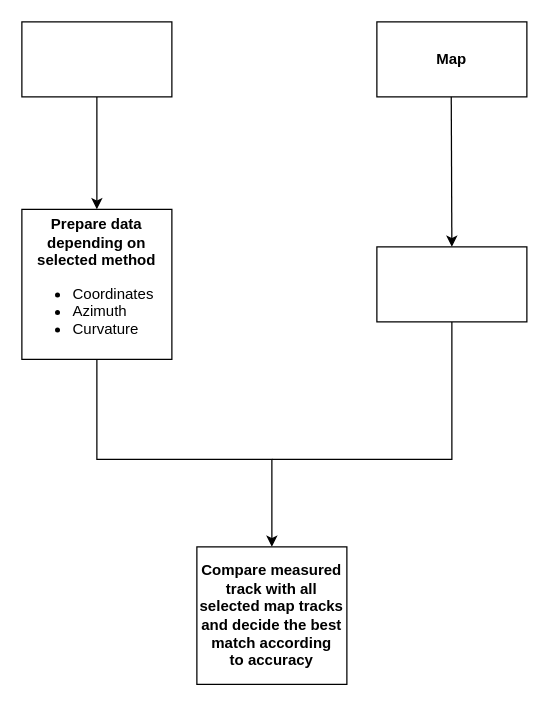
Some shapes in this 549 by 706 pixel diagram are drawn without their labels. Here are the shapes that lost their labels. From the top down, the centre of each, then its label:
At point (96, 59): "Measured track".
At point (451, 284): "Select possible tracks (prepare data or data available?)".
